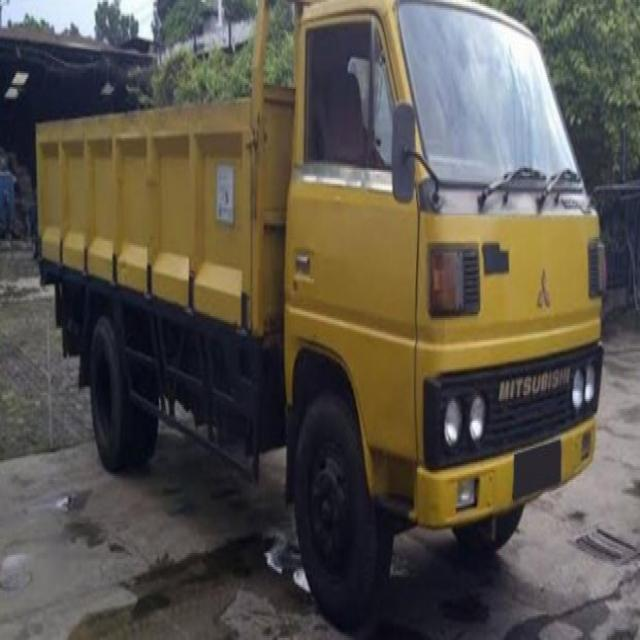truck: (36, 0, 609, 591)
